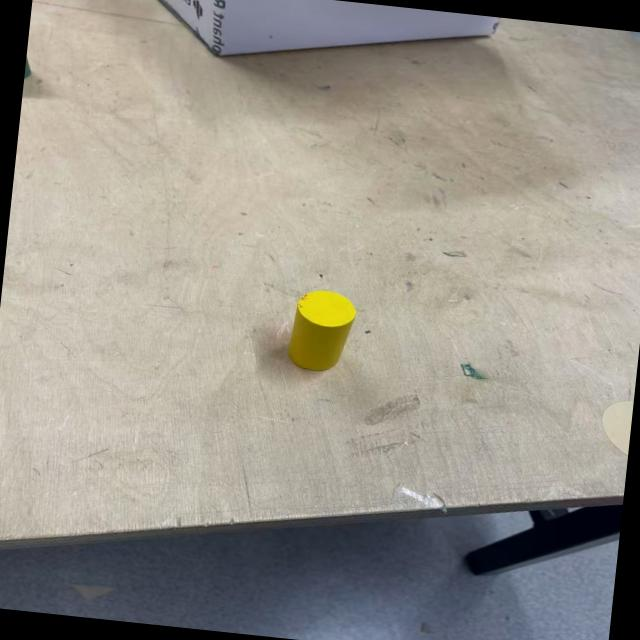yellow_cylinder: (285, 286, 358, 374)
